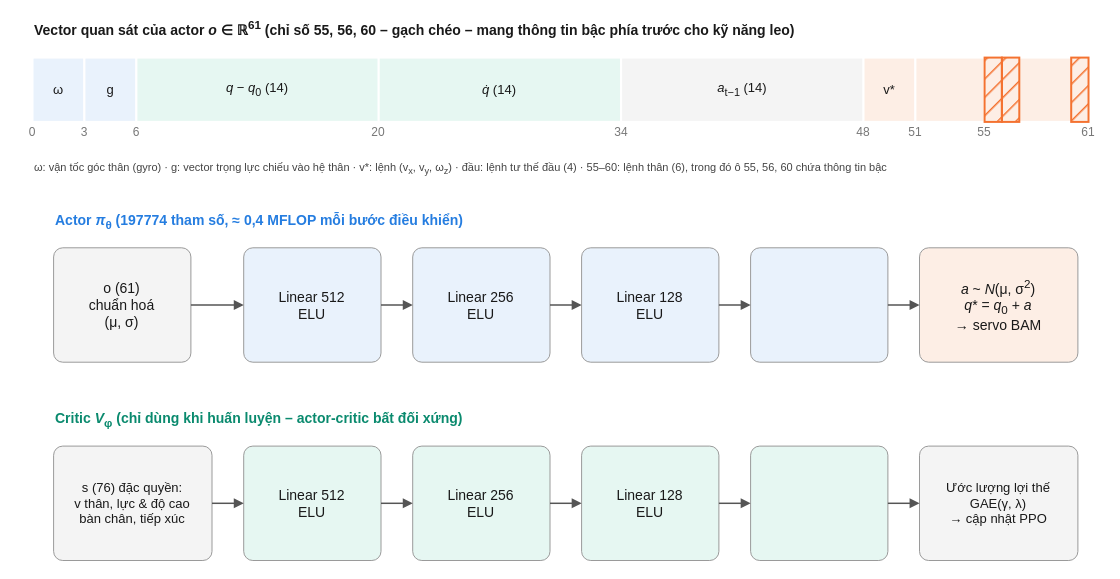
Image size: 1120x579. Some labels were removed from this diagram. Each missing label, with the centre of its shape:
"Linear 1 V φ ( s )" belongs at (x=819, y=502).
"Linear 14 μ(o)" belongs at (x=819, y=304).
"đầu" belongs at (x=949, y=89).
